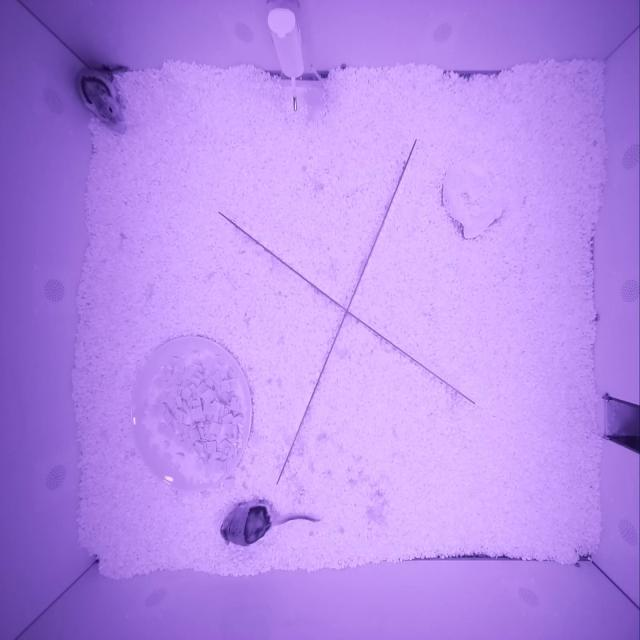adult_back: (220, 505, 272, 546)
adult_front: (78, 67, 125, 125)
